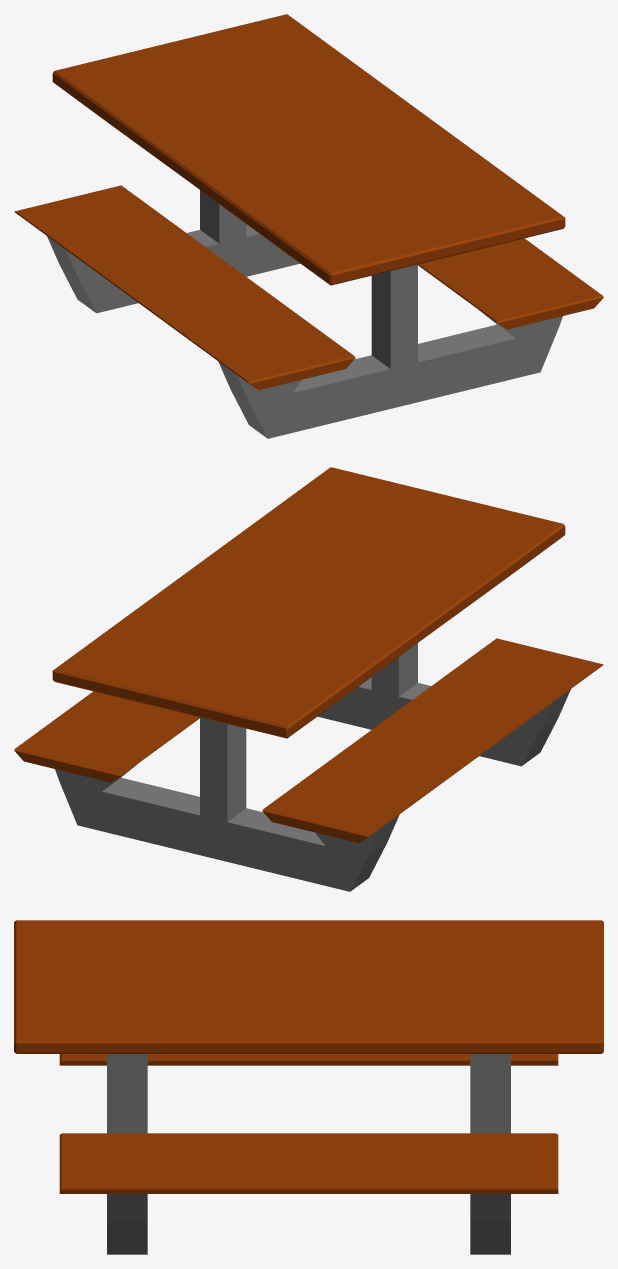
Rendered from MesaPicnic.fbx.
3 renders of one model, top to bottom at view 1: azimuth 30°, elevation 25°; view 2: azimuth 150°, elevation 25°; view 3: azimuth 270°, elevation 25°, orthographic. The views are drawn at different scales.
Parts seen in each view (by area): view 1: MesaPicnic; view 2: MesaPicnic; view 3: MesaPicnic.
Part boxes in pixels (x1,y1,x2,y2): MesaPicnic: (14,14,603,438); MesaPicnic: (14,467,603,891); MesaPicnic: (14,920,603,1254).
Bounding box in the file's own units: 7.8 × 10.6 × 4.04.
